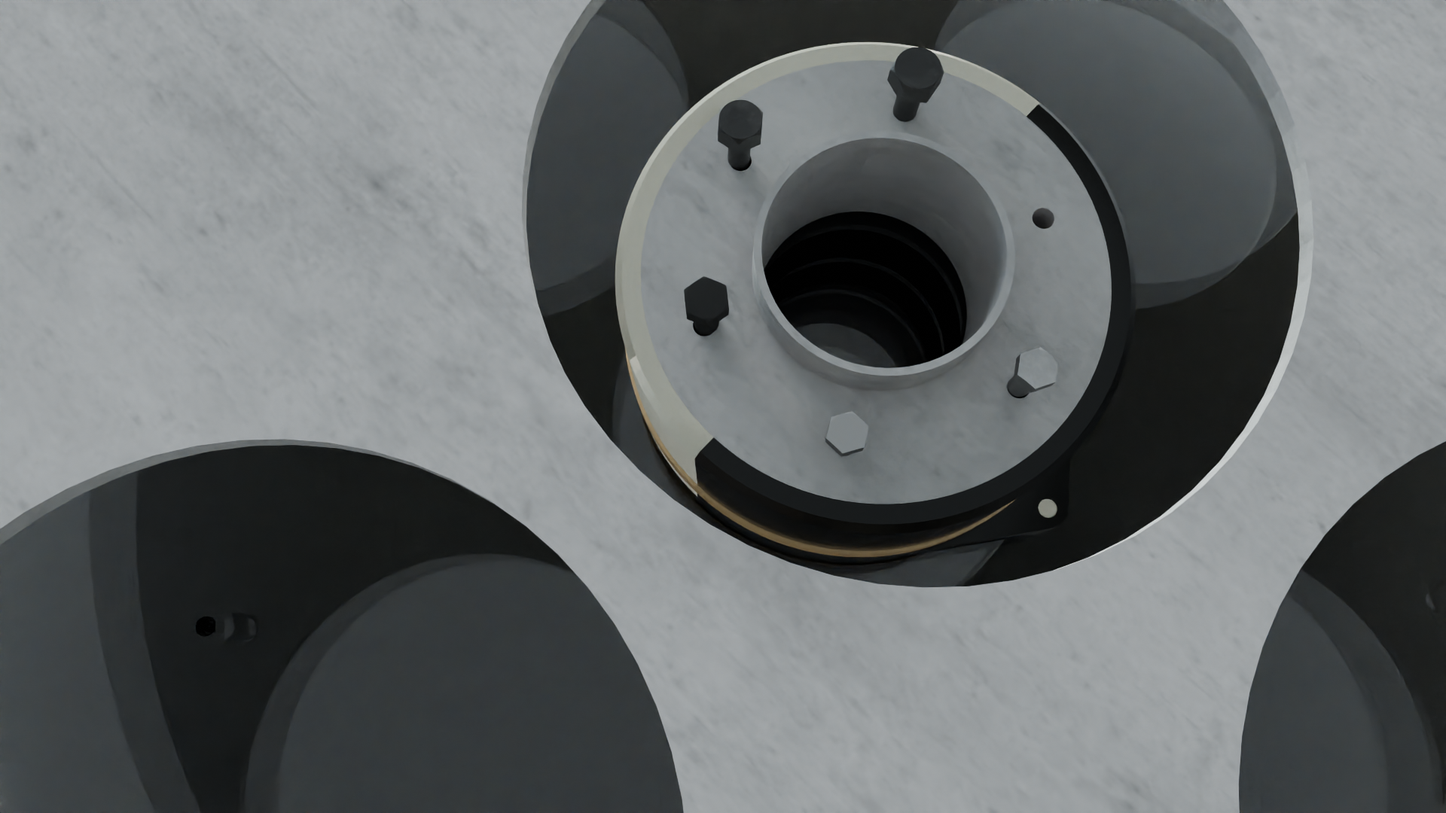bolt: (890, 47, 944, 93), (718, 99, 763, 145), (684, 276, 729, 322), (826, 411, 869, 453), (1017, 347, 1058, 389)
